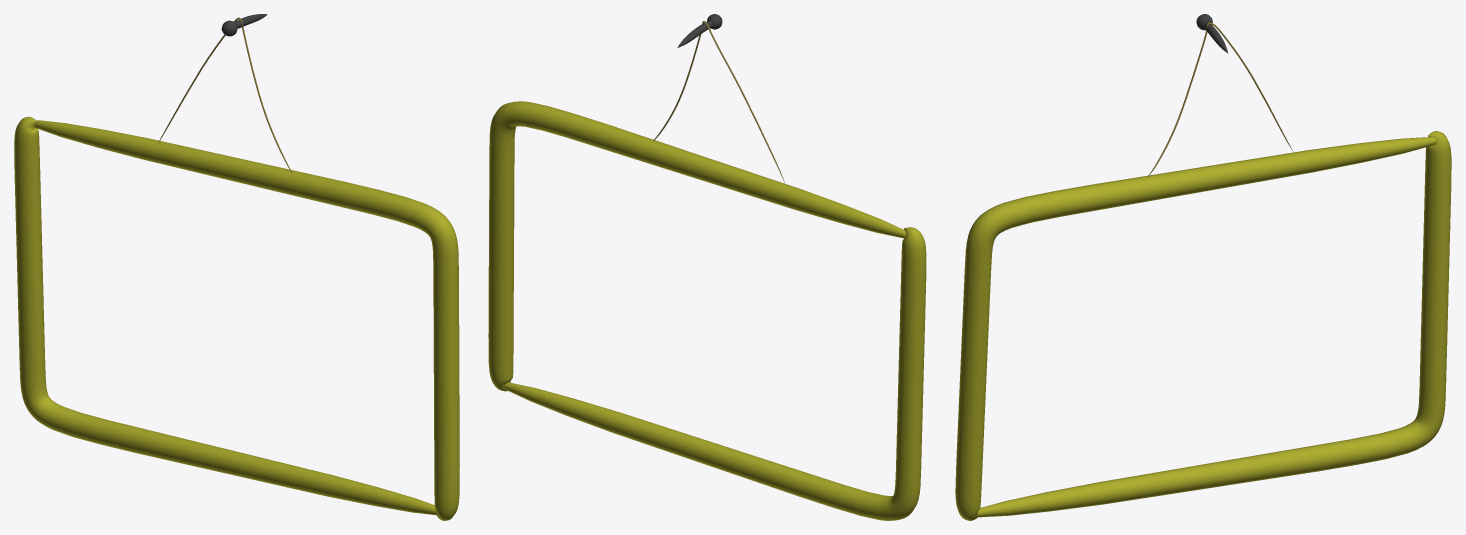
Rendered from pic_frame.fbx.
3 views of the same model, side by side, from view 1: azimuth 30°, elevation 25°; view 2: azimuth 210°, elevation 25°; view 3: azimuth 270°, elevation 25° (orthographic). The views are drawn at different scales.
Visible parts, largest first — view 1: s.0008, s.0006, s.0010; view 2: s.0006, s.0008, s.0010; view 3: s.0006, s.0008, s.0010.
Boxes of the visible parts, x1,y1,x2,y2 form: s.0008: (35, 120, 459, 520); s.0006: (14, 116, 437, 515); s.0010: (158, 17, 292, 172); s.0006: (504, 227, 926, 520); s.0008: (488, 101, 905, 391); s.0010: (653, 21, 784, 183); s.0006: (977, 131, 1451, 517); s.0008: (955, 137, 1436, 520); s.0010: (1148, 22, 1293, 176).
Bounding box in the file's own units: 28.03 × 53.47 × 56.71.
